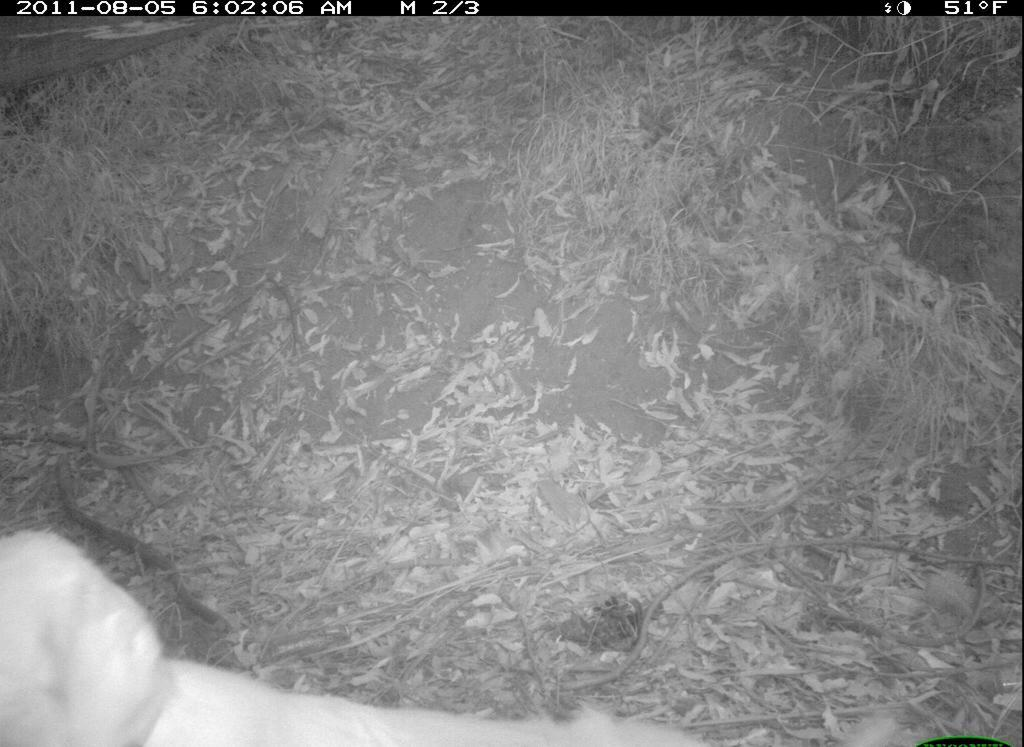dog: (1, 527, 712, 746)
